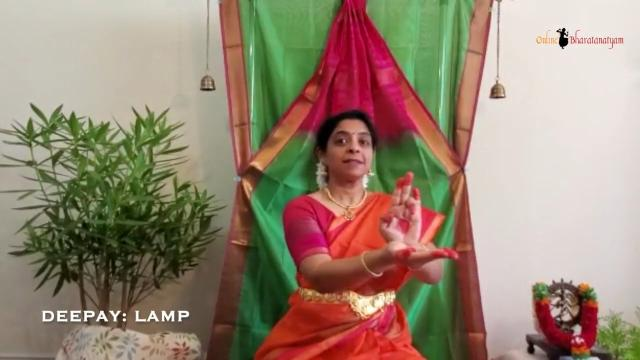tripataka: (377, 164, 429, 252)
